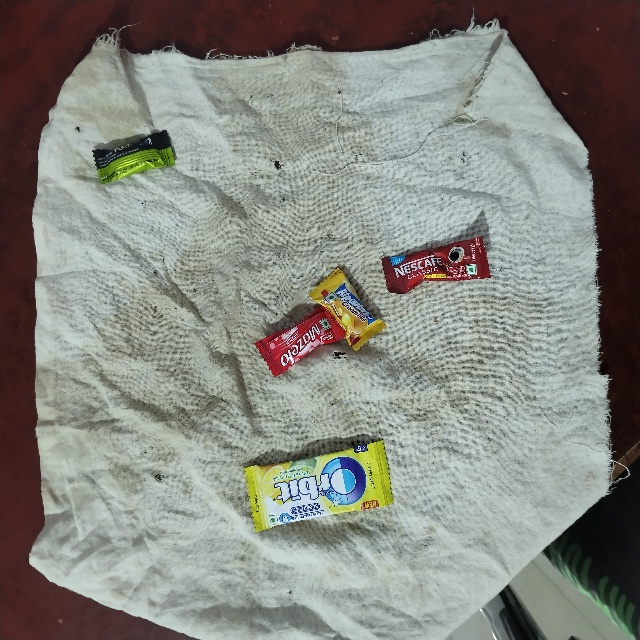Alpenlibe Creamfills: (341, 263, 428, 302)
Mazelo: (259, 346, 348, 382)
Nescafe Coffee: (373, 260, 490, 309)
Orbit: (234, 468, 389, 542)
Pulse: (84, 150, 173, 193)
